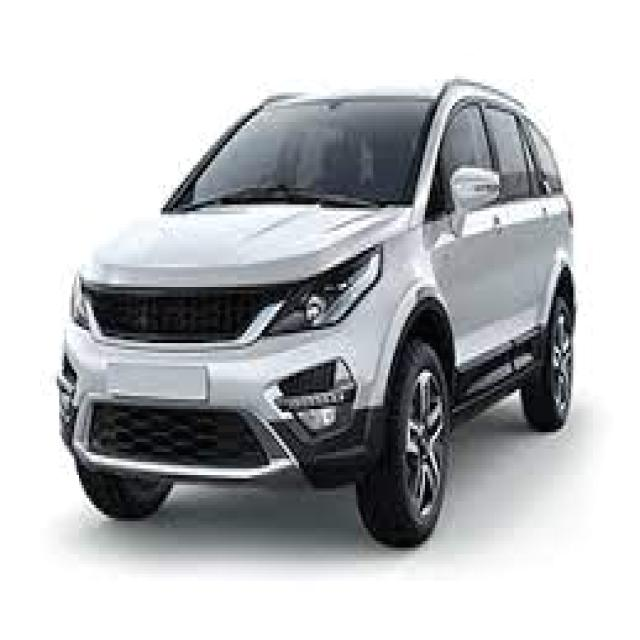SUV: (54, 72, 578, 548)
